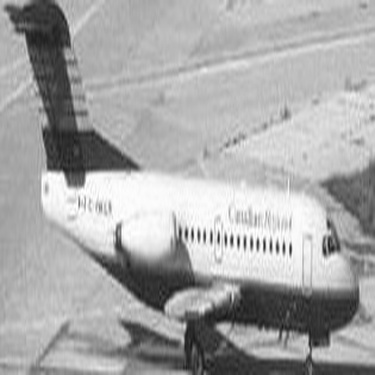airplane: (3, 4, 367, 371)
